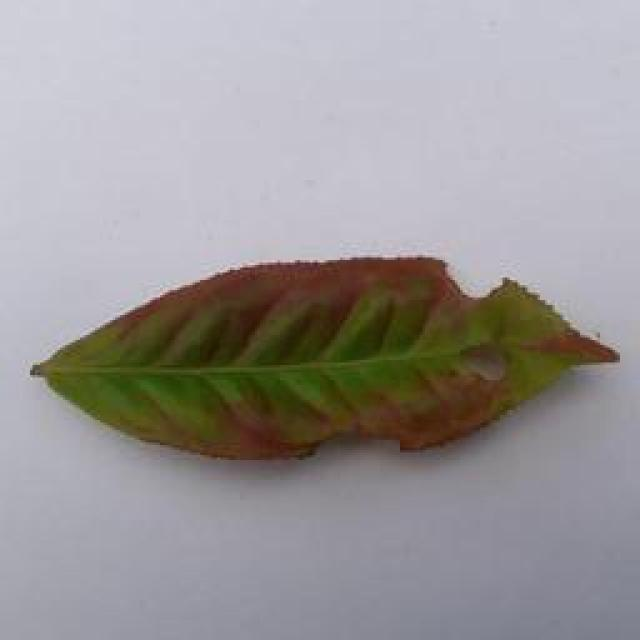Red Leaf Spot: (31, 247, 640, 469)
